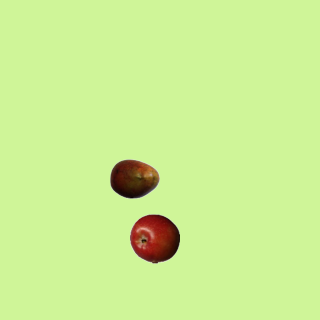Apple Braeburn: (129, 213, 179, 263)
Mango Red: (109, 153, 159, 203)
